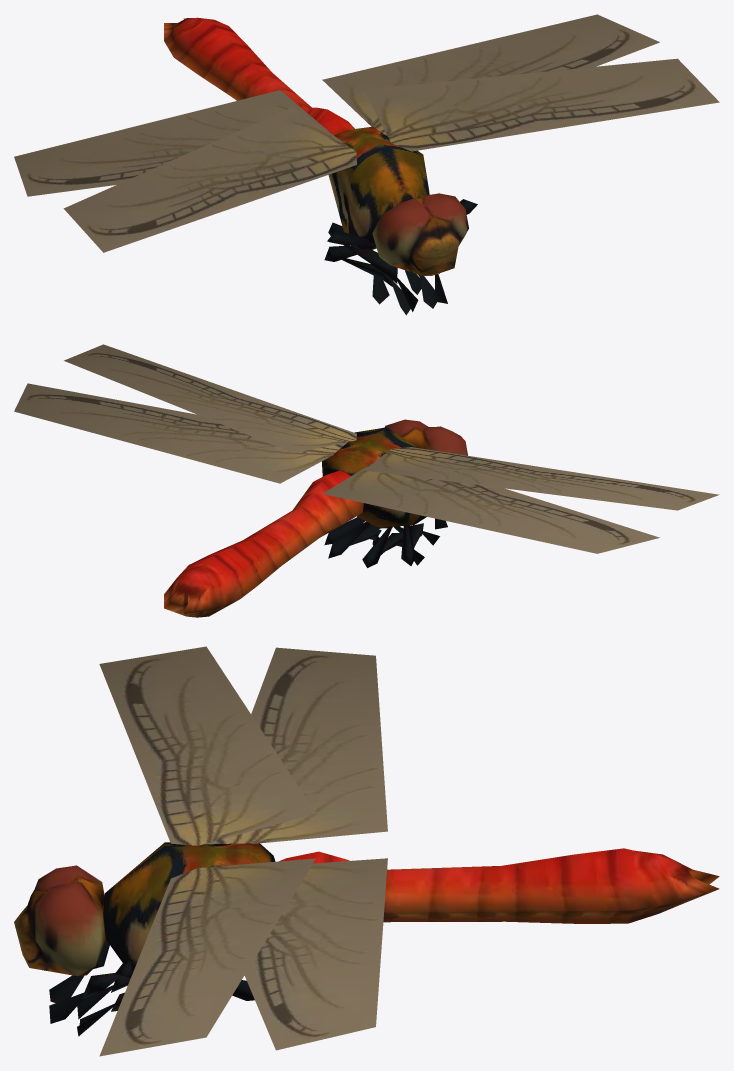
Rendered from red-dragonfly.glb.
3 renders of one model, top to bottom at view 1: azimuth 30°, elevation 25°; view 2: azimuth 150°, elevation 25°; view 3: azimuth 270°, elevation 25°, orthographic. The views are drawn at different scales.
Parts seen in each view (by area): view 1: InsectAkiakane_node7, InsectAkiakane_node8; view 2: InsectAkiakane_node7, InsectAkiakane_node8; view 3: InsectAkiakane_node7, InsectAkiakane_node8.
Part boxes in pixels (bbox=[...]): InsectAkiakane_node7: bbox=[14, 14, 719, 252]; InsectAkiakane_node8: bbox=[164, 17, 477, 315]; InsectAkiakane_node7: bbox=[14, 344, 719, 553]; InsectAkiakane_node8: bbox=[164, 419, 467, 617]; InsectAkiakane_node7: bbox=[99, 646, 387, 1056]; InsectAkiakane_node8: bbox=[14, 842, 719, 1036].
Size of the model in its own units: 4.21 by 0.9569 by 3.12.
Materials: 2 (2 with a texture image).
